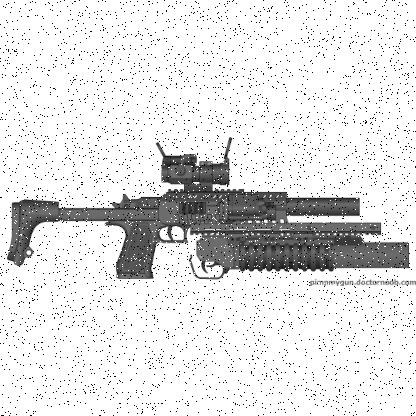gun: (7, 136, 408, 278)
